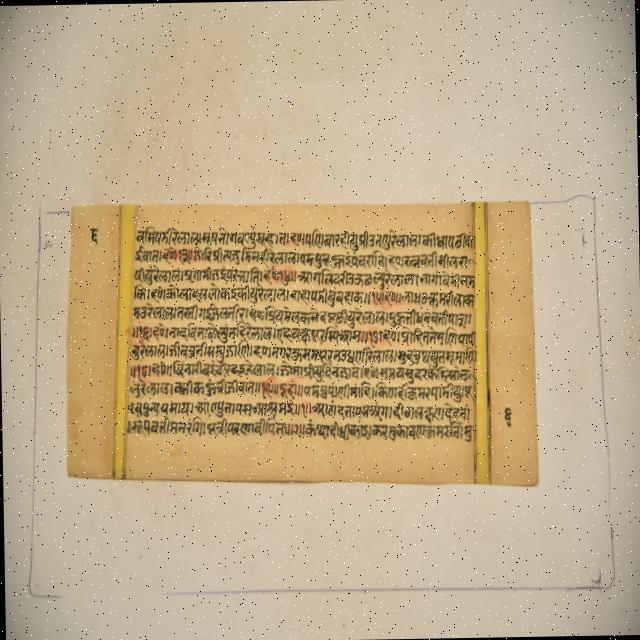text_paragraph: (67, 204, 535, 483)
